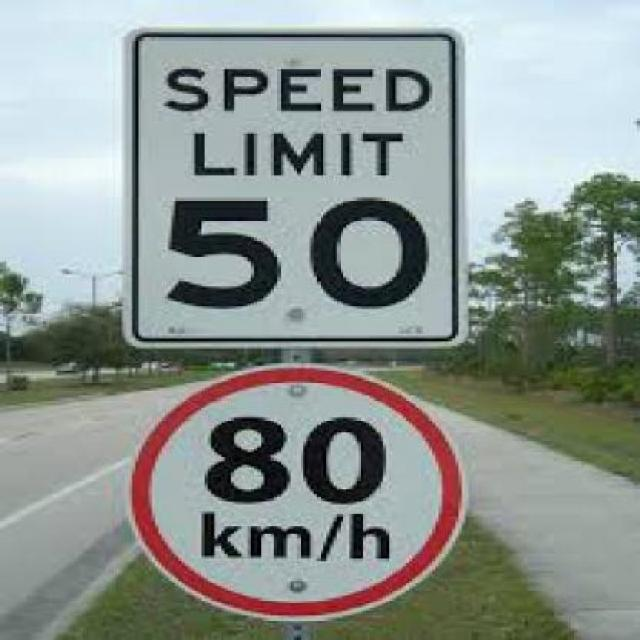forb_speed_over_80: (129, 360, 475, 623)
